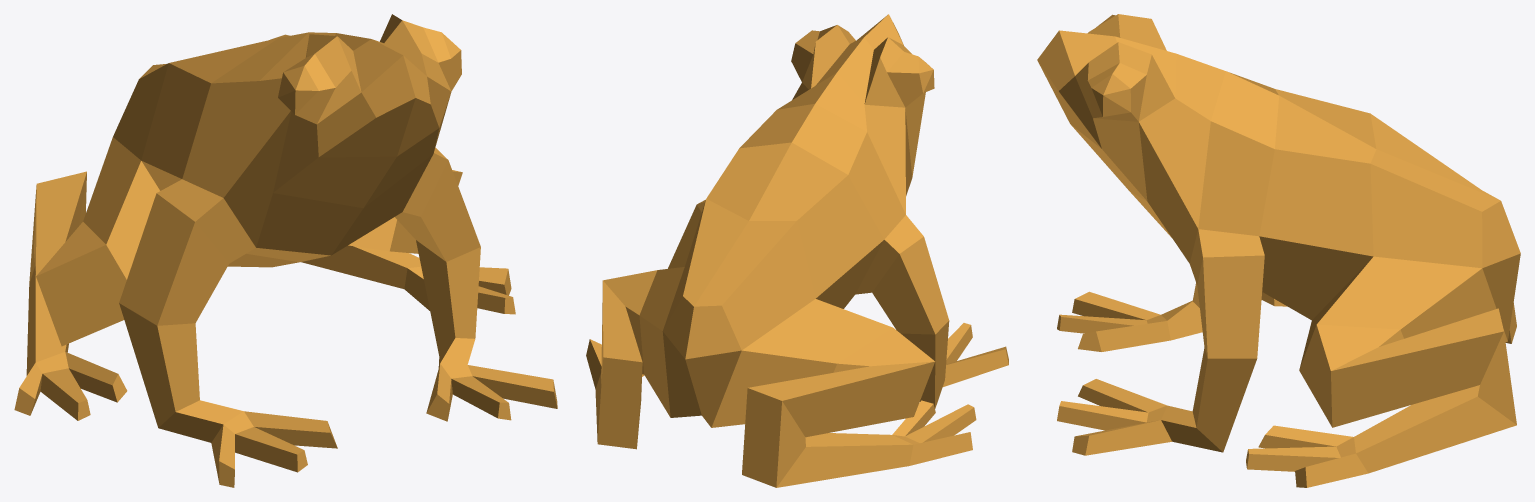
File: frog.fbx
The picture shows the model from 3 angles, left to right: view 1: azimuth 30°, elevation 25°; view 2: azimuth 150°, elevation 25°; view 3: azimuth 270°, elevation 25°; orthographic projection. The views are drawn at different scales.
Visible parts, largest first — view 1: frog; view 2: frog; view 3: frog.
Boxes of the visible parts, x1,y1,x2,y2 form: frog: [14, 14, 557, 487]; frog: [586, 14, 1008, 487]; frog: [1037, 14, 1520, 487].
Bounding box in the file's own units: 0.2477 × 0.1935 × 0.2363.
